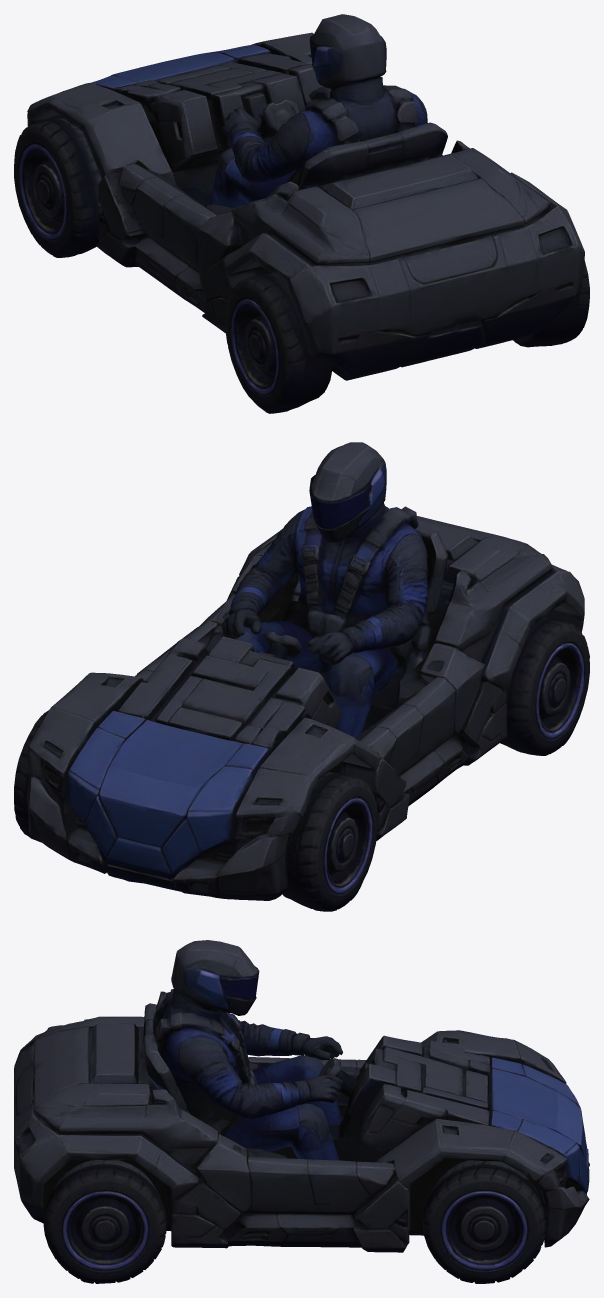
File: juris-dark.glb
3 renders of one model, top to bottom at view 1: azimuth 30°, elevation 25°; view 2: azimuth 150°, elevation 25°; view 3: azimuth 270°, elevation 25°, orthographic. The views are drawn at different scales.
Visible parts, largest first — view 1: chassis; view 2: chassis; view 3: chassis.
Boxes of the visible parts, x1=… form: chassis: x1=14, y1=14, x2=589, y2=413; chassis: x1=14, y1=442, x2=589, y2=911; chassis: x1=14, y1=940, x2=589, y2=1283.
Bounding box in the file's own units: 2.47 × 2.38 × 4.5.
Materials: 1 (1 with a texture image).
